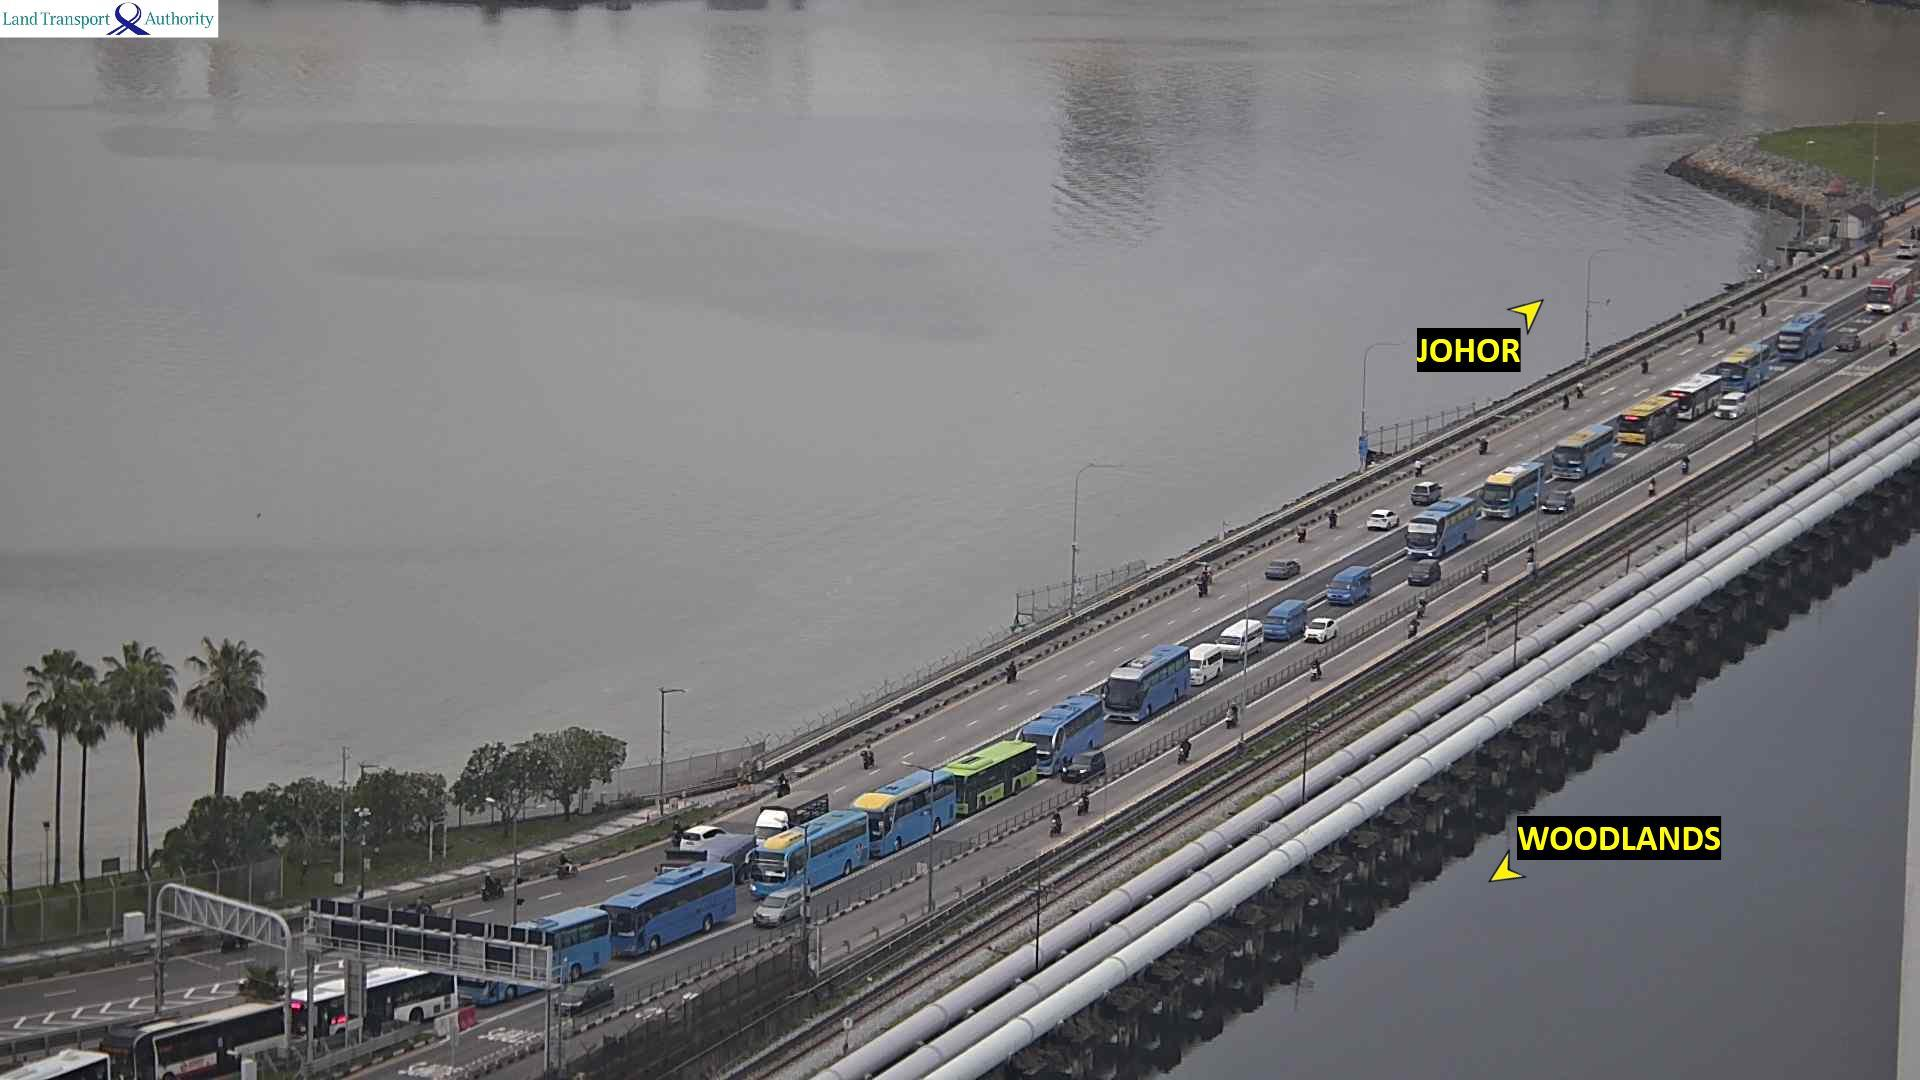vehicle-causeway-johor: (682, 825, 728, 850), (1366, 508, 1400, 533), (1265, 560, 1300, 581), (480, 873, 504, 900), (555, 853, 578, 881), (1411, 484, 1441, 503), (415, 893, 435, 914), (776, 773, 791, 797), (1897, 242, 1919, 258), (1004, 659, 1017, 684), (861, 745, 874, 769), (1195, 574, 1208, 598), (1414, 458, 1425, 477), (1297, 525, 1307, 544), (1328, 509, 1337, 528), (1728, 318, 1737, 335), (1561, 391, 1569, 410), (1480, 436, 1488, 454), (1576, 381, 1584, 399), (1799, 280, 1808, 296), (1695, 329, 1704, 344), (1641, 358, 1649, 374), (1717, 316, 1725, 330), (1760, 300, 1767, 316), (1851, 263, 1858, 279), (1834, 268, 1843, 280), (1863, 250, 1870, 265), (1822, 266, 1829, 278), (1910, 226, 1916, 239), (1878, 236, 1883, 249)
vehicle-causeway-singapore: (105, 1002, 291, 1080), (457, 907, 612, 999), (291, 966, 458, 1048), (602, 861, 734, 958), (750, 810, 869, 898), (851, 771, 956, 855), (942, 740, 1036, 817), (1020, 696, 1102, 774), (1103, 646, 1190, 718), (1407, 497, 1476, 560), (1480, 462, 1545, 519), (1552, 424, 1614, 480), (0, 1049, 110, 1080), (1616, 398, 1678, 445), (1664, 375, 1722, 420), (1719, 343, 1769, 390), (1776, 313, 1826, 360), (1864, 268, 1913, 313), (752, 885, 803, 927), (555, 981, 615, 1016), (1216, 618, 1264, 661), (1326, 566, 1373, 605), (1263, 600, 1307, 638), (1188, 643, 1223, 685), (1062, 748, 1105, 782), (1409, 560, 1441, 587), (1541, 489, 1576, 513), (1303, 618, 1336, 643), (1714, 392, 1746, 417), (1833, 334, 1860, 352), (1073, 790, 1090, 817), (1177, 736, 1192, 765), (1047, 811, 1063, 837), (1225, 702, 1238, 729), (1309, 658, 1322, 681), (1407, 619, 1419, 639), (1416, 597, 1426, 618), (1681, 455, 1691, 475), (1888, 339, 1899, 356), (1647, 475, 1656, 495), (1527, 544, 1535, 562), (1481, 565, 1488, 584)
